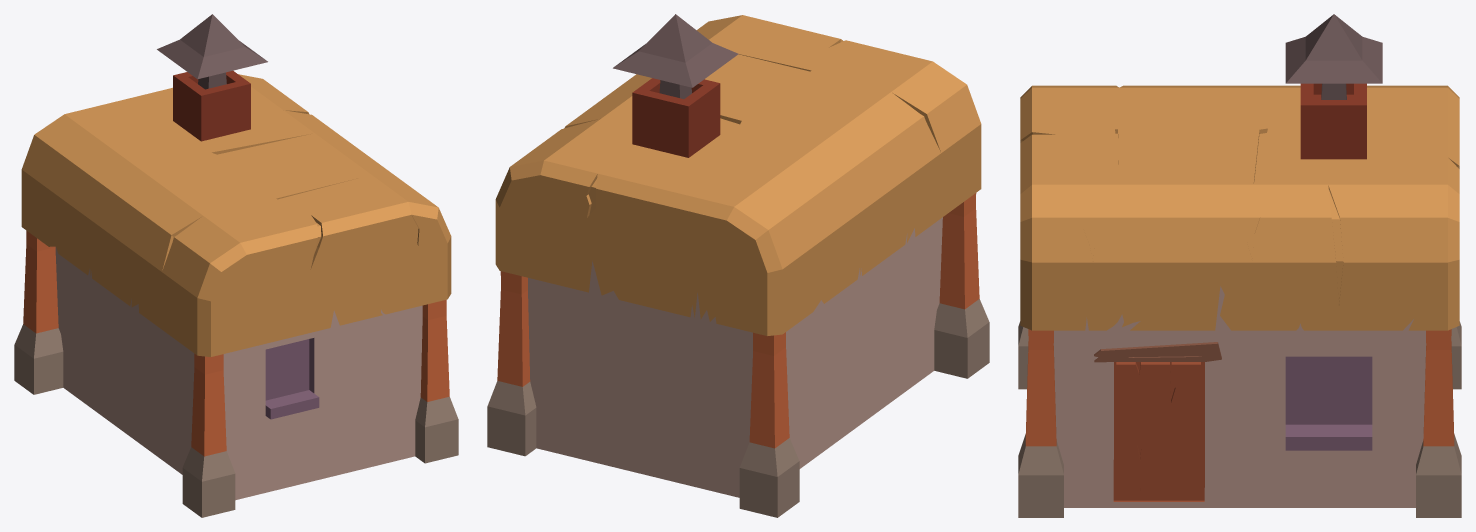
Rendered from Aligator_House.fbx.
3 renders of one model, left to right at view 1: azimuth 30°, elevation 25°; view 2: azimuth 150°, elevation 25°; view 3: azimuth 270°, elevation 25°, orthographic. The views are drawn at different scales.
Visible parts, largest first — view 1: House; view 2: House; view 3: House.
Part boxes in pixels (<box>): House: <box>14,14,458,517</box>; House: <box>487,14,989,517</box>; House: <box>1018,14,1461,517</box>.
Size of the model in its own units: 221 by 305 by 279.
